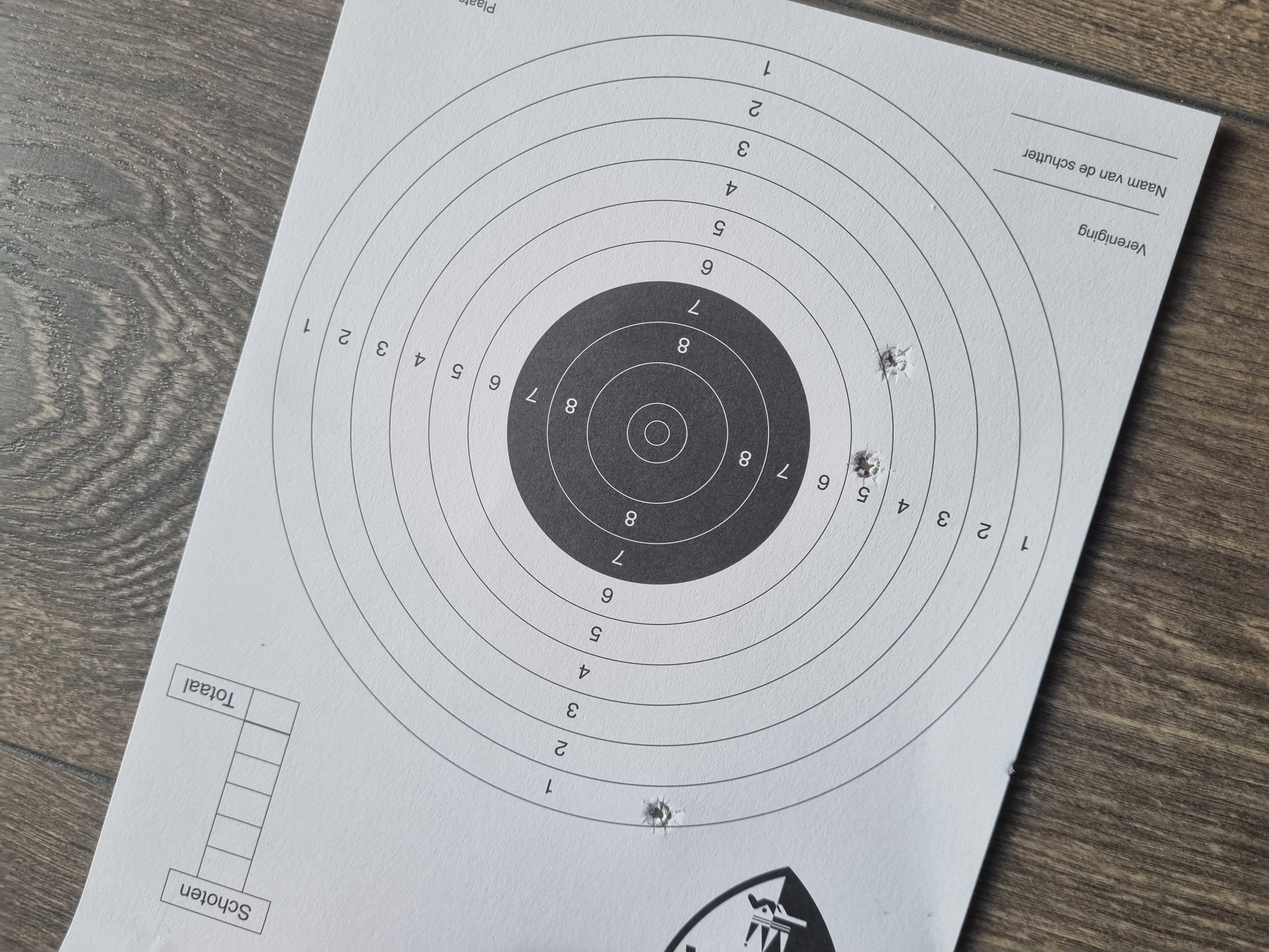hole: (760, 659, 809, 685), (623, 635, 670, 661), (154, 481, 204, 505)
